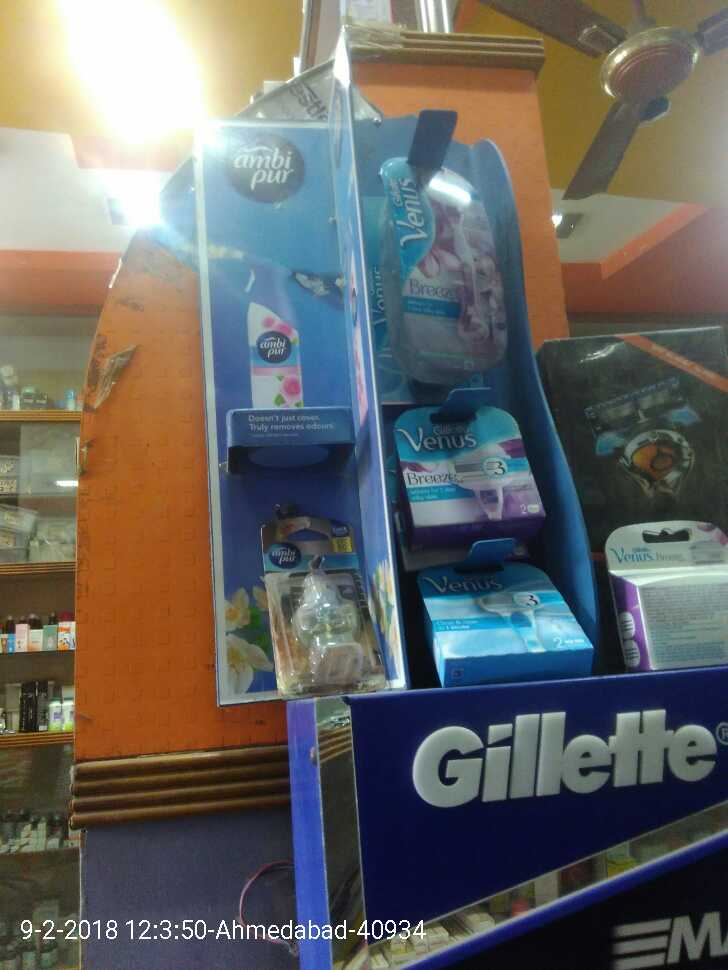beauty: (379, 147, 519, 368), (403, 551, 598, 684), (388, 399, 544, 540)
home: (251, 514, 389, 691)
